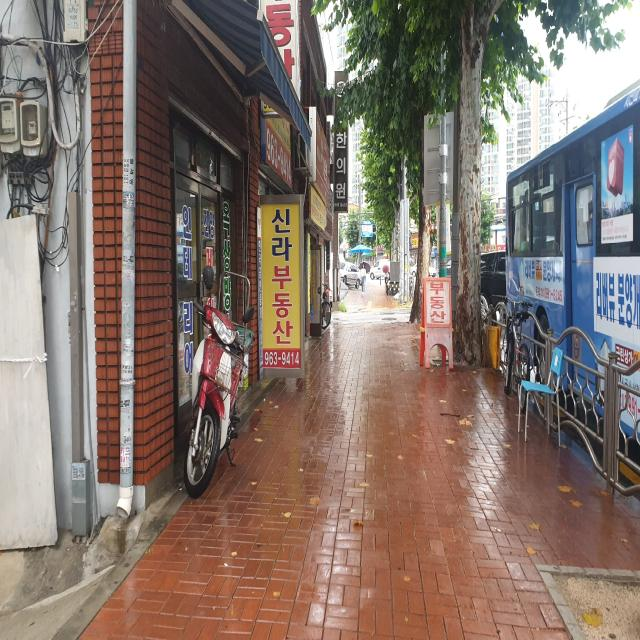motorbike: (184, 266, 255, 498)
